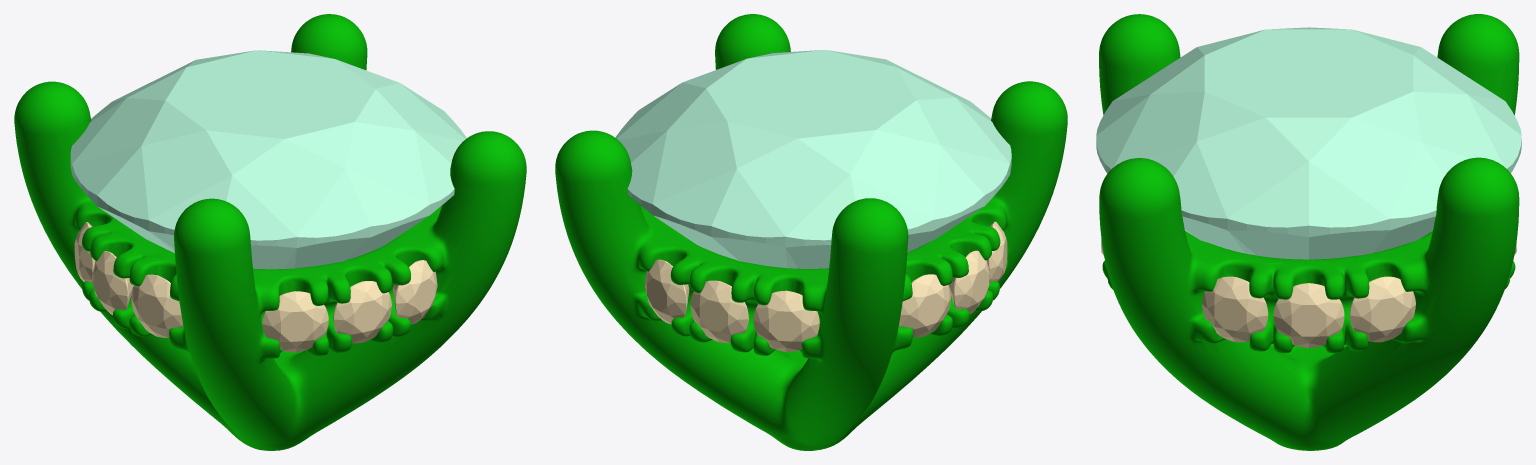
3 views of the same model, side by side, from view 1: azimuth 30°, elevation 25°; view 2: azimuth 150°, elevation 25°; view 3: azimuth 270°, elevation 25° (orthographic). The views are drawn at different scales.
Visible parts, largest first — view 1: Metal01, CS_Diamond, Diamond_Round.002, Diamond_Round.001, Diamond_Round.007, Diamond_Round, Diamond_Round.006, Diamond_Round.008; view 2: Metal01, CS_Diamond, Diamond_Round.004, Diamond_Round.003, Diamond_Round.008, Diamond_Round.005, Diamond_Round.006, Diamond_Round.007; view 3: Metal01, CS_Diamond, Diamond_Round.009, Diamond_Round.011, Diamond_Round.010.
Boxes of the visible parts, box(x1,y1,x2,y2) form: Metal01: box(14, 14, 526, 450); CS_Diamond: box(70, 50, 466, 269); Diamond_Round.002: box(262, 291, 328, 352); Diamond_Round.001: box(333, 281, 391, 343); Diamond_Round.007: box(131, 274, 183, 337); Diamond_Round: box(393, 260, 437, 324); Diamond_Round.006: box(92, 251, 133, 314); Diamond_Round.008: box(74, 222, 95, 283); Metal01: box(555, 14, 1067, 450); CS_Diamond: box(615, 50, 1011, 268); Diamond_Round.004: box(753, 290, 819, 351); Diamond_Round.003: box(690, 280, 748, 342); Diamond_Round.008: box(899, 274, 950, 337); Diamond_Round.005: box(644, 259, 689, 324); Diamond_Round.006: box(948, 250, 990, 314); Diamond_Round.007: box(987, 221, 1007, 282); Metal01: box(1099, 14, 1519, 450); CS_Diamond: box(1096, 27, 1521, 259); Diamond_Round.009: box(1273, 283, 1344, 348); Diamond_Round.011: box(1202, 276, 1268, 342); Diamond_Round.010: box(1349, 276, 1415, 342).
Size of the model in its own units: 6 by 5.74 by 6.
